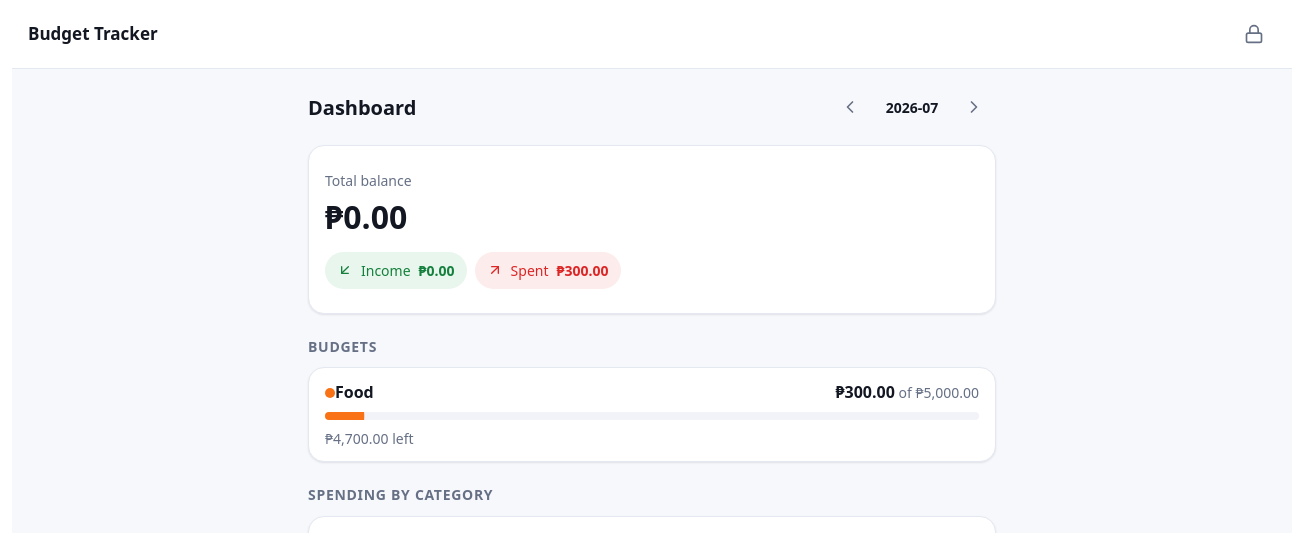
DashboardScreen › navigates to the previous month
The image size is (1304, 533).
Check: the button named "Lock" is shown, box [1232, 12, 1276, 56]
Check: the text "₱300.00" next to "Spent" is shown, box [556, 261, 608, 280]
Click the button named "Previous month".
click(850, 107)  # box [828, 85, 872, 129]
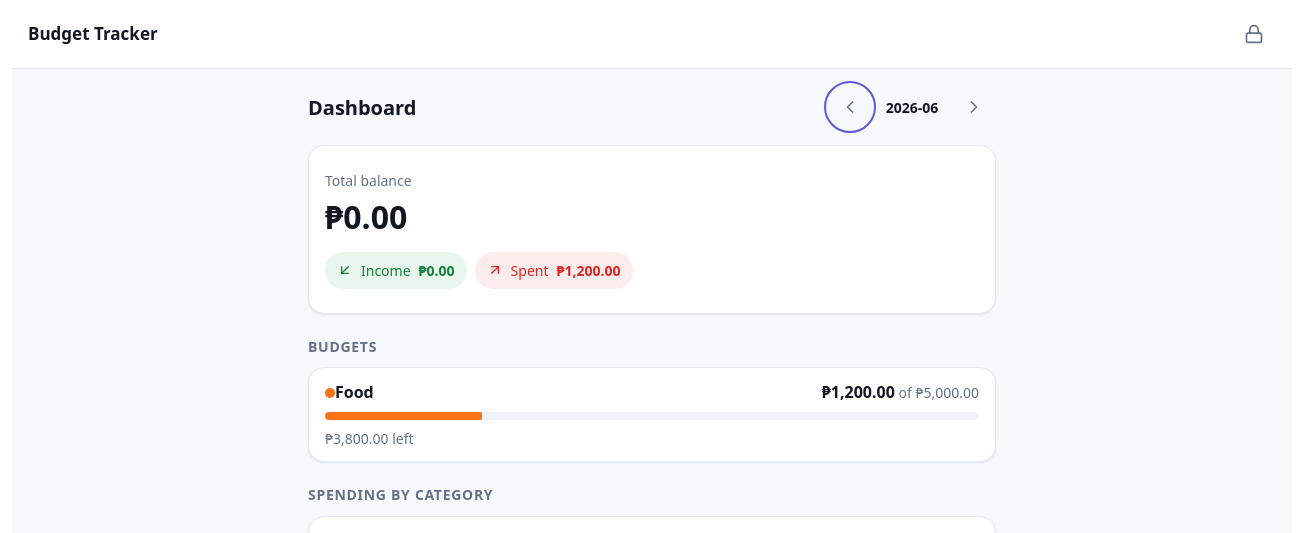
Check: the text "₱1,200.00" next to "Spent" is shown, box [556, 261, 620, 280]
Check: the text "₱300.00" is gone
